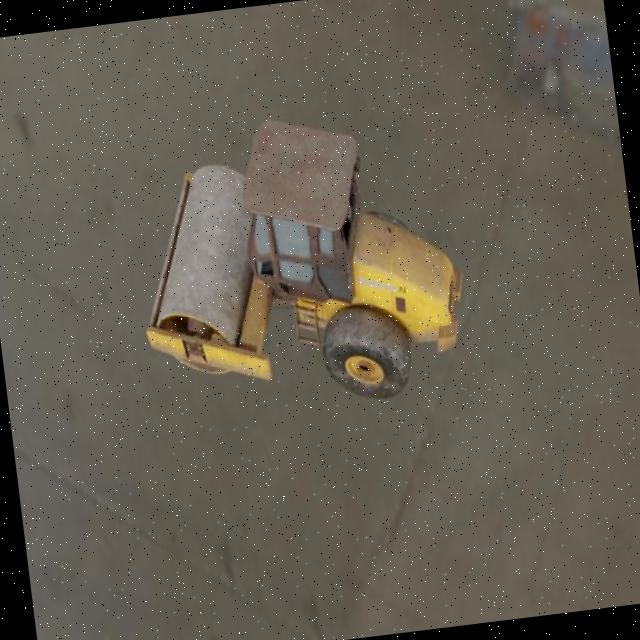Roller: (121, 97, 475, 426)
